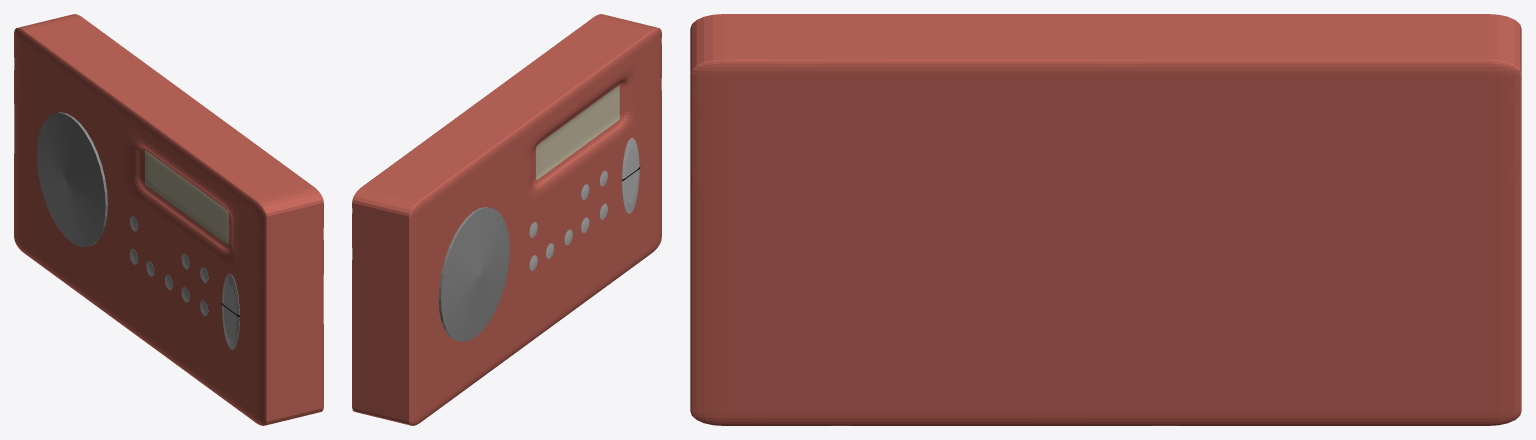
Rendered from RadioBaseV1.fbx.
3 renders of one model, left to right at view 1: azimuth 30°, elevation 25°; view 2: azimuth 150°, elevation 25°; view 3: azimuth 270°, elevation 25°, orthographic. The views are drawn at different scales.
Parts seen in each view (by area): view 1: Cylinder.011; view 2: Cylinder.011; view 3: Cylinder.011.
Part boxes in pixels (x1=…): Cylinder.011: x1=14, y1=14, x2=323, y2=425; Cylinder.011: x1=352, y1=14, x2=661, y2=425; Cylinder.011: x1=690, y1=14, x2=1521, y2=425.
Size of the model in its own units: 254 by 39.81 by 124.
